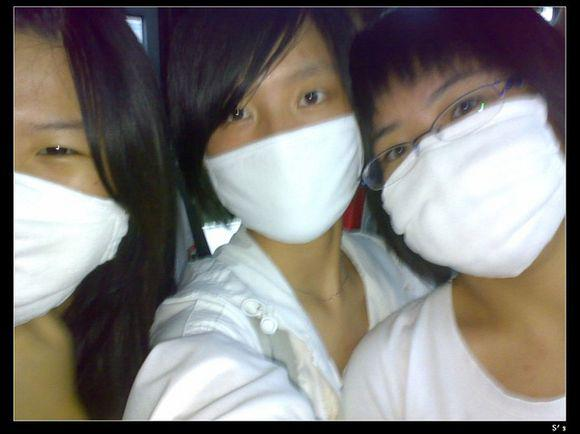OK: (371, 75, 569, 279), (1, 119, 129, 329), (196, 78, 362, 237)
